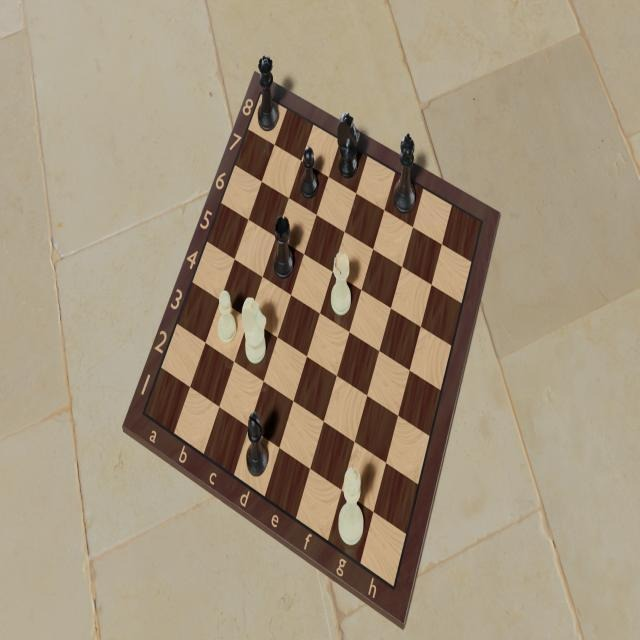black-bishop: (246, 409, 270, 478)
black-king: (391, 132, 417, 216)
black-knight: (336, 110, 362, 181)
black-pawn: (300, 145, 320, 201)
black-queen: (256, 54, 280, 133)
black-rook: (273, 213, 295, 280)
white-king: (337, 466, 365, 548)
white-knight: (240, 293, 268, 366)
white-pawn: (218, 288, 238, 344)
white-rook: (328, 248, 351, 317)
